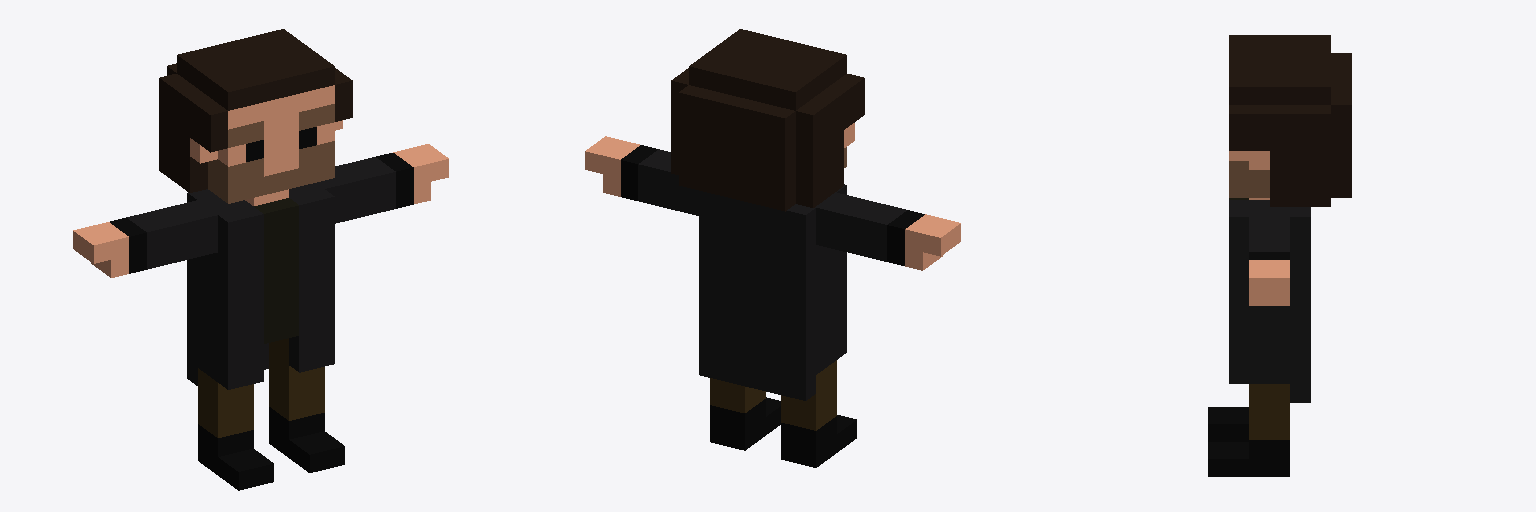
The picture shows the model from 3 angles: view 1: azimuth 30°, elevation 25°; view 2: azimuth 150°, elevation 25°; view 3: azimuth 270°, elevation 25°; orthographic projection.
Visible parts, largest first — view 1: object 1; view 2: object 1; view 3: object 1.
Boxes of the visible parts, box(x1,y1,x2,y2) form: object 1: box(73, 29, 448, 490); object 1: box(585, 29, 960, 467); object 1: box(1208, 35, 1351, 476).
Bounding box in the file's own units: 2 × 2.1 × 0.7.
Materials: 1 (1 with a texture image).